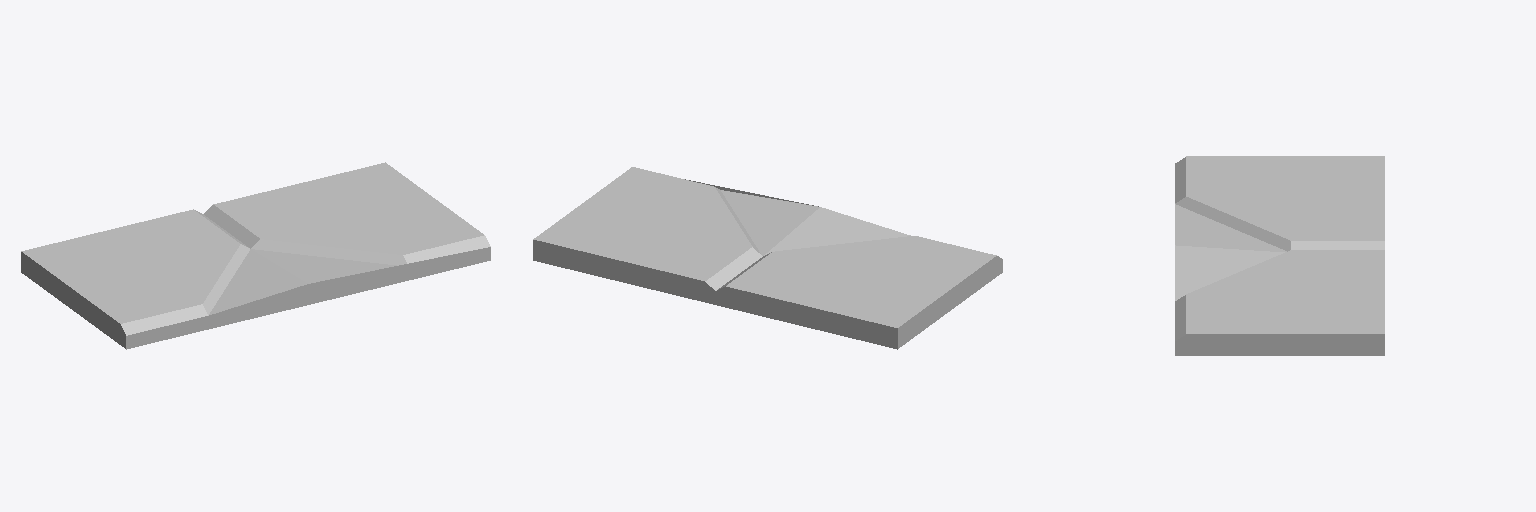
Rendered from DoorHyper_mid.obj.
3 renders of one model, left to right at view 1: azimuth 30°, elevation 25°; view 2: azimuth 150°, elevation 25°; view 3: azimuth 270°, elevation 25°, orthographic.
Visible parts, largest first — view 1: DoorSub_mid_Cube.012; view 2: DoorSub_mid_Cube.012; view 3: DoorSub_mid_Cube.012.
Boxes of the visible parts, <box> form: DoorSub_mid_Cube.012: <box>21,162,490,349</box>; DoorSub_mid_Cube.012: <box>533,167,1002,349</box>; DoorSub_mid_Cube.012: <box>1175,156,1384,355</box>.
Size of the model in its own units: 0.36 by 0.02 by 0.18.